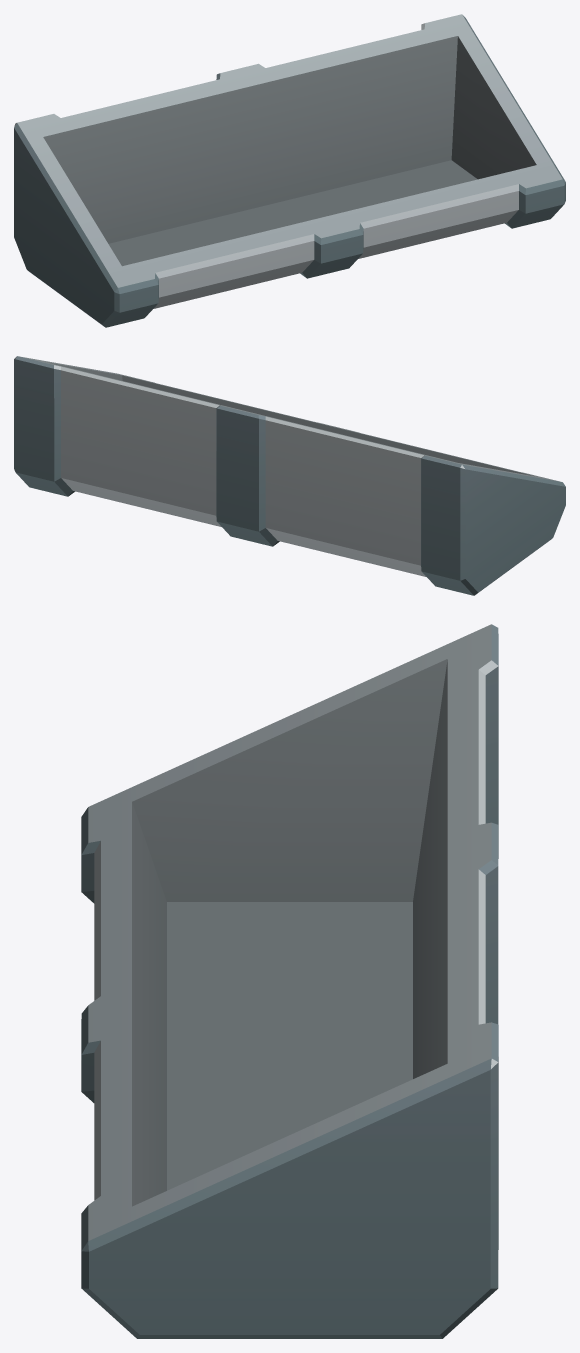
The model's file is Crate_011.fbx.
3 renders of one model, top to bottom at view 1: azimuth 30°, elevation 25°; view 2: azimuth 150°, elevation 25°; view 3: azimuth 270°, elevation 25°, orthographic. The views are drawn at different scales.
Visible parts, largest first — view 1: Crate_011; view 2: Crate_011; view 3: Crate_011.
Part boxes in pixels (x1=…): Crate_011: x1=14, y1=14, x2=565, y2=327; Crate_011: x1=14, y1=356, x2=565, y2=595; Crate_011: x1=81, y1=624, x2=498, y2=1338.
Size of the model in its own units: 120 by 47.86 by 35.49.
